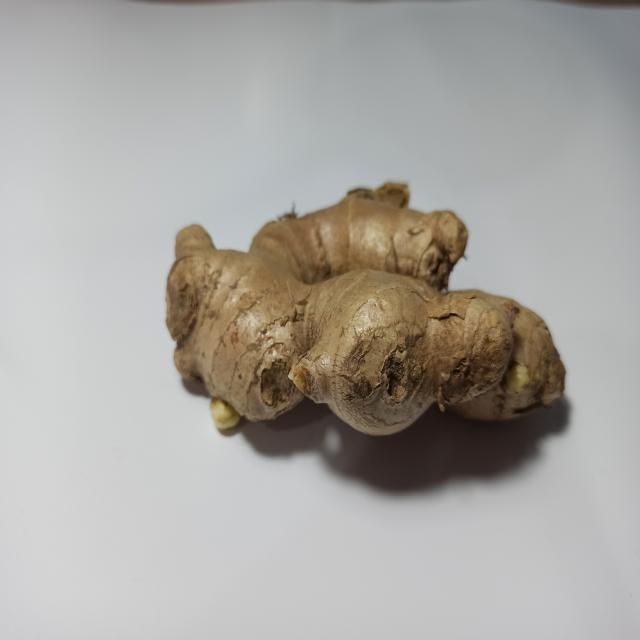ginger: (172, 194, 562, 458)
